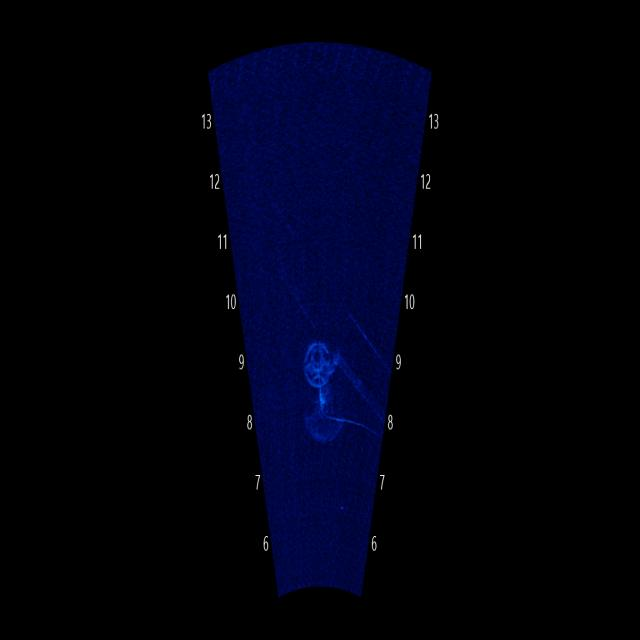circle: (298, 308, 340, 402)
